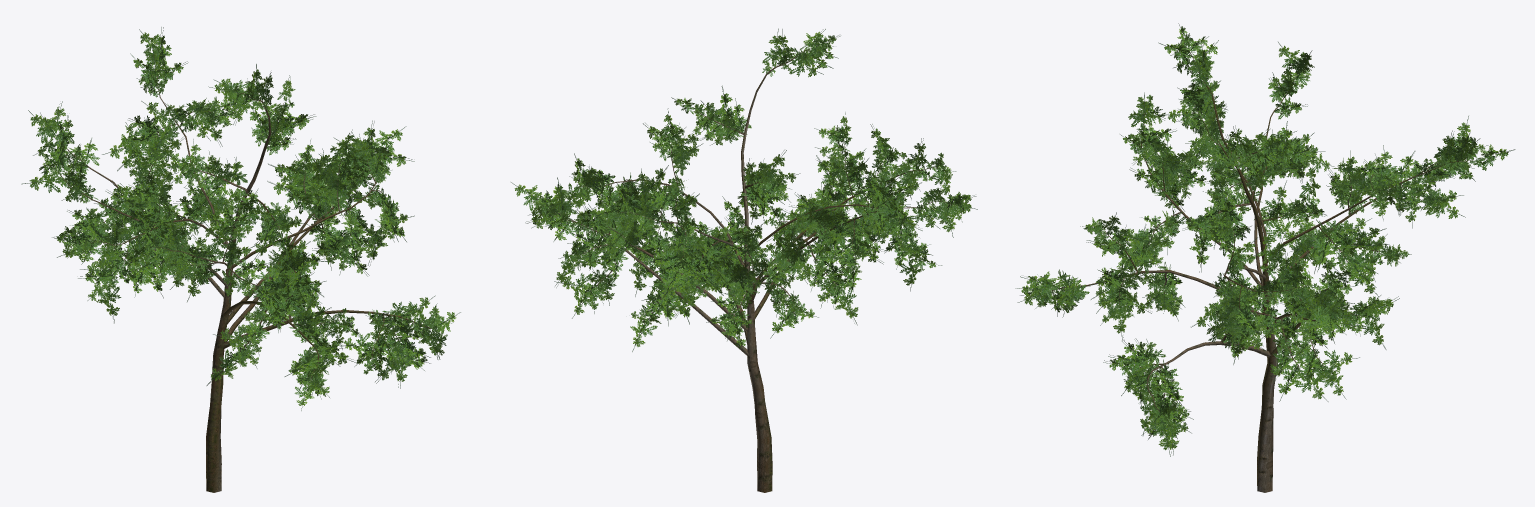
File: tree_ash_small.glb
3 renders of one model, left to right at view 1: azimuth 30°, elevation 25°; view 2: azimuth 150°, elevation 25°; view 3: azimuth 270°, elevation 25°, orthographic. The views are drawn at different scales.
Visible parts, largest first — view 1: Leaves, Branches; view 2: Leaves, Branches; view 3: Leaves, Branches.
Boxes of the visible parts, x1,y1,x2,y2 form: Leaves: (21,27,460,410); Branches: (53,70,431,492); Leaves: (511,28,977,351); Branches: (554,48,953,492); Leaves: (1015,23,1515,456); Branches: (1052,48,1473,492).
Size of the model in its own units: 8.62 by 8.8 by 8.84.
Materials: 2 (2 with a texture image).
